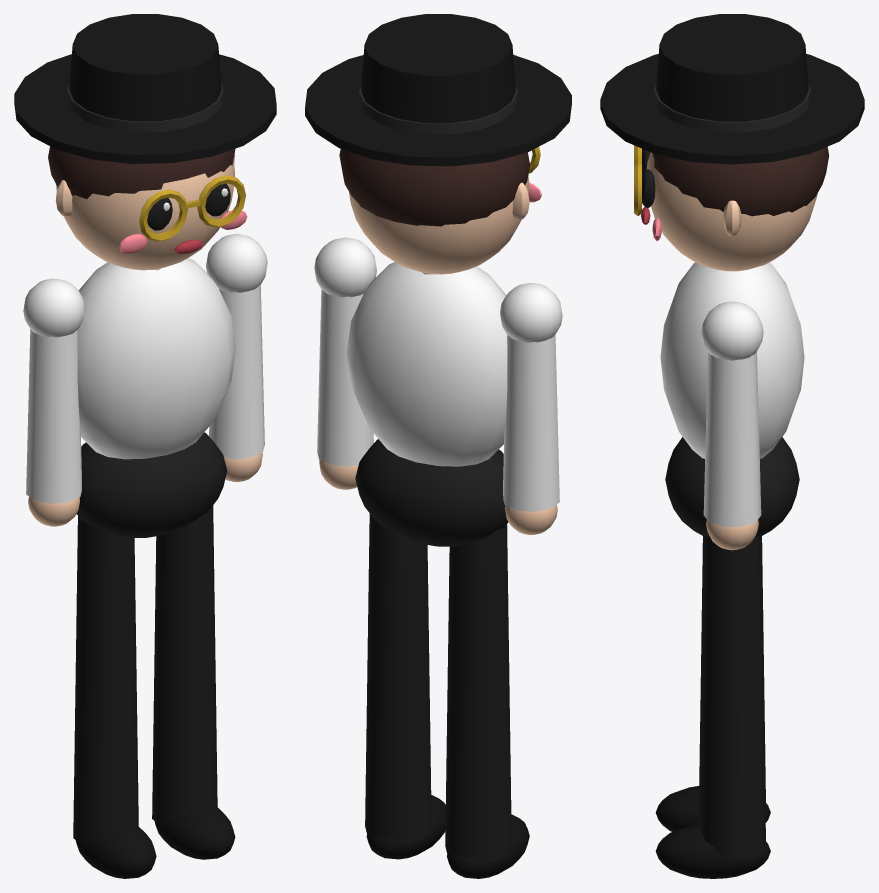
The model's file is town_bochur.glb.
3 views of the same model, side by side, from view 1: azimuth 30°, elevation 25°; view 2: azimuth 150°, elevation 25°; view 3: azimuth 270°, elevation 25° (orthographic).
Parts seen in each view (by area): view 1: Body.001, Leg_R, Leg_L, Arm_R, Arm_L; view 2: Body.001, Leg_R, Leg_L, Arm_R, Arm_L; view 3: Body.001, Leg_L, Arm_L, Leg_R.
Part boxes in pixels (x1,y1,x2,y2): Body.001: (14,14,276,538); Leg_R: (73,516,156,878); Leg_L: (152,505,235,859); Arm_R: (23,278,84,526); Arm_L: (206,234,267,481); Body.001: (305,14,571,546); Leg_R: (445,524,529,878); Leg_L: (365,513,445,859); Arm_R: (500,283,562,534); Arm_L: (314,237,376,489); Body.001: (600,14,864,536); Leg_L: (655,535,770,878); Arm_L: (701,301,763,550); Leg_R: (655,536,770,831).
Bounding box in the file's own units: 0.57 × 1.86 × 0.551.
